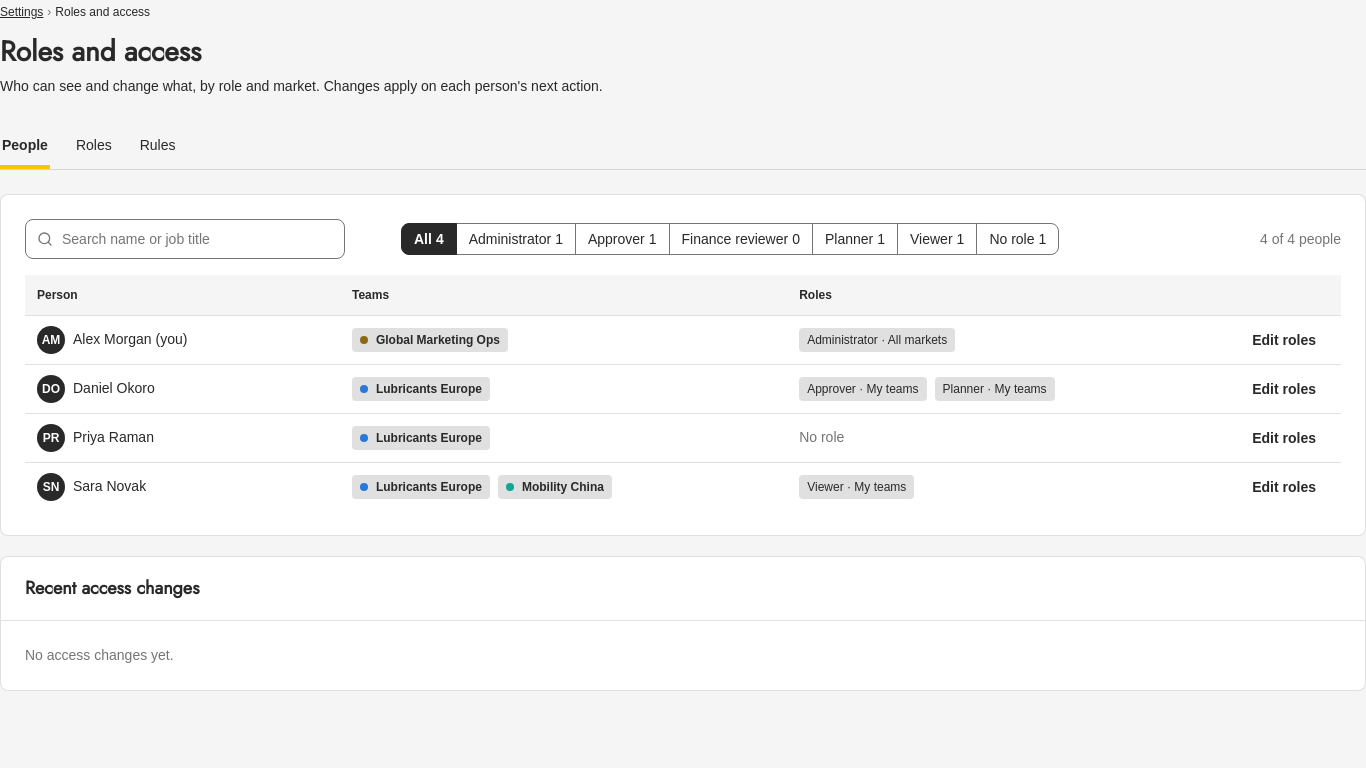
Test: AccessPage: a person's roles (feature 014, US3) › gives Sara the Planner role for Mobility China, with the summary before saving (US3-2)
Click the button with aria-label "Edit roles of Sara Novak" at (1284, 486), box top-left (1239, 470), bottom-right (1329, 502)
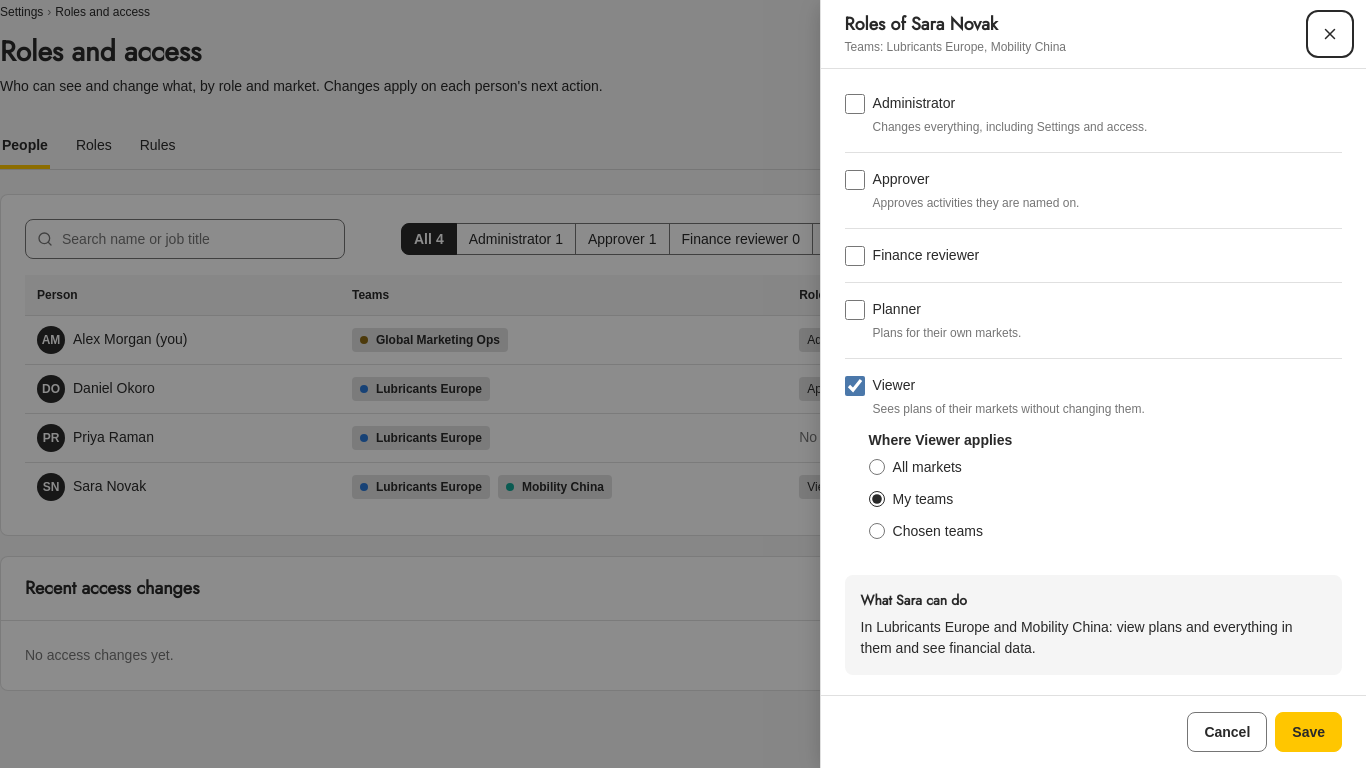
Now the dialog "Roles of Sara Novak" shows "Teams: Lubricants Europe, Mobility China", box top-left (845, 40), bottom-right (1066, 54)
Now the checkbox labelled "Viewer" is checked, box top-left (845, 376), bottom-right (865, 396)
Now the element "What Sara can do" shows "In Lubricants Europe and Mobility China: view plans and everything in them and see financial data.", box top-left (861, 619), bottom-right (1292, 656)
Click the checkbox labelled "Planner" at (855, 310), box top-left (845, 300), bottom-right (865, 320)
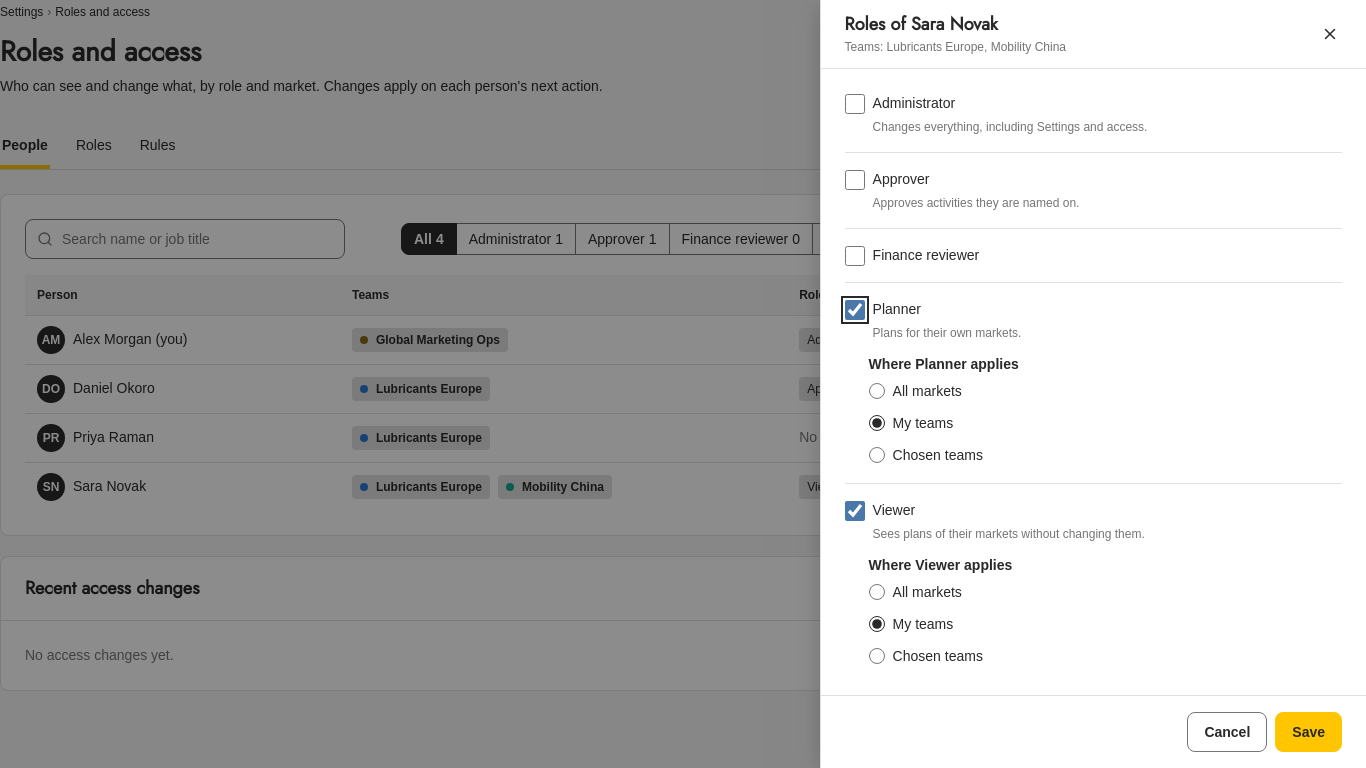
Now the radio button labelled "My teams" below "Where Planner applies" is checked, box top-left (869, 415), bottom-right (885, 431)
Click the radio button labelled "Chosen teams" below "Where Planner applies" at (877, 455), box top-left (869, 447), bottom-right (885, 463)
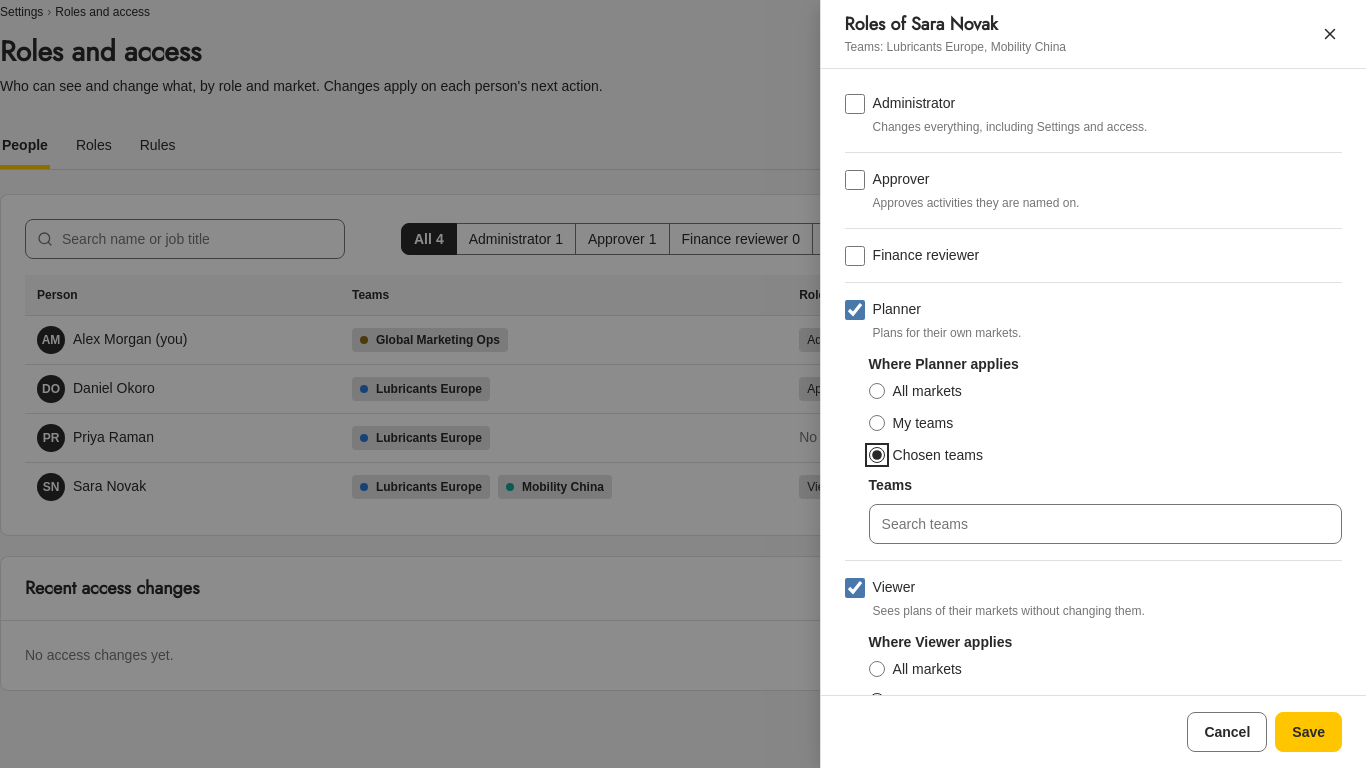
Type "mobility" into the dropdown labelled "Teams" at (1105, 524), box top-left (878, 510), bottom-right (1333, 538)
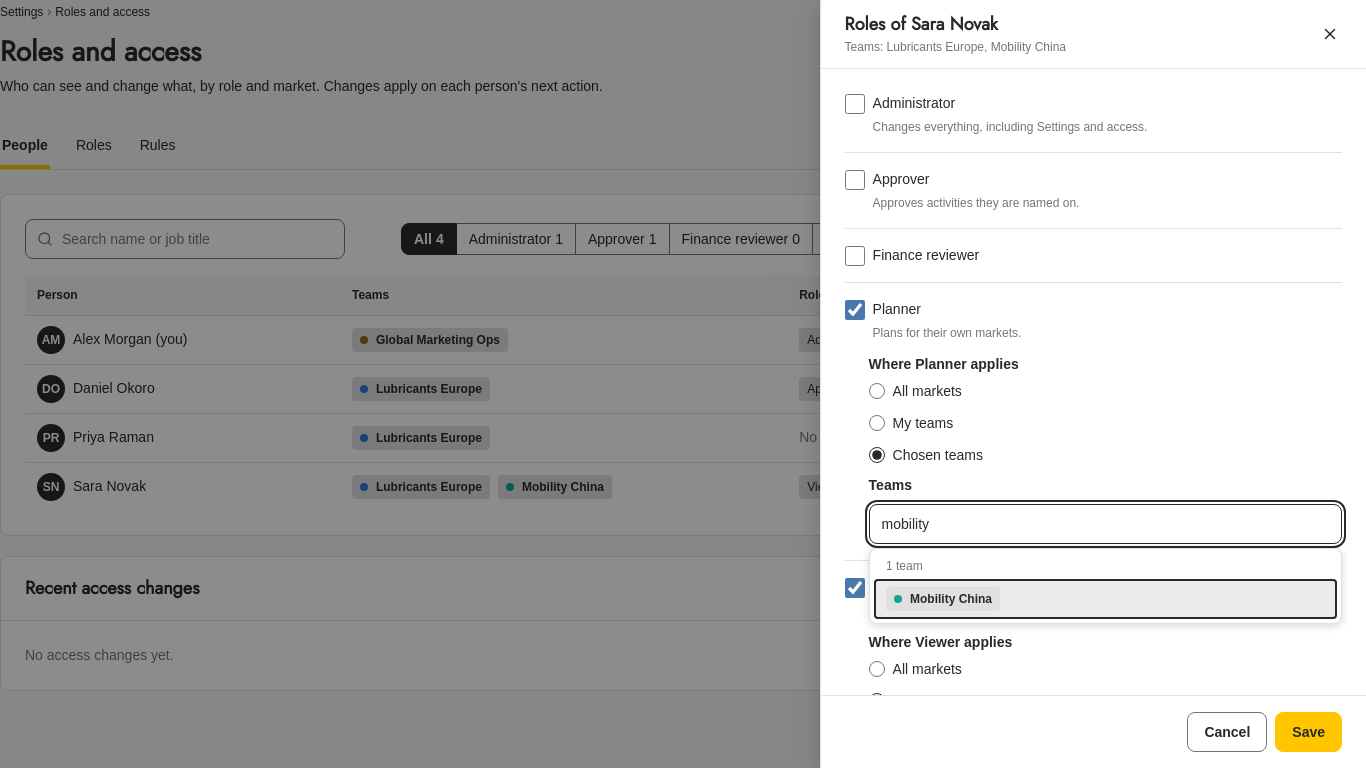
Press Enter
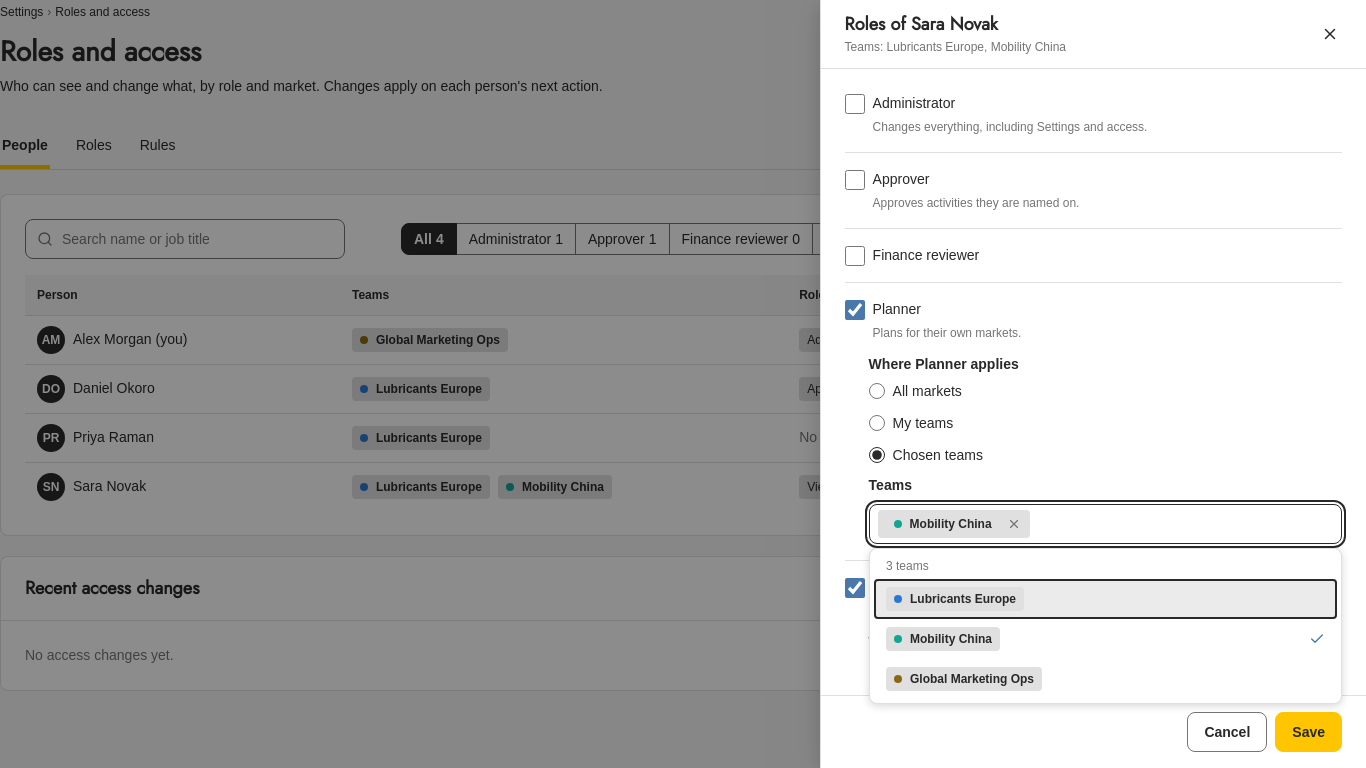
Click the button "Save" at (1309, 732), box top-left (1275, 712), bottom-right (1342, 752)
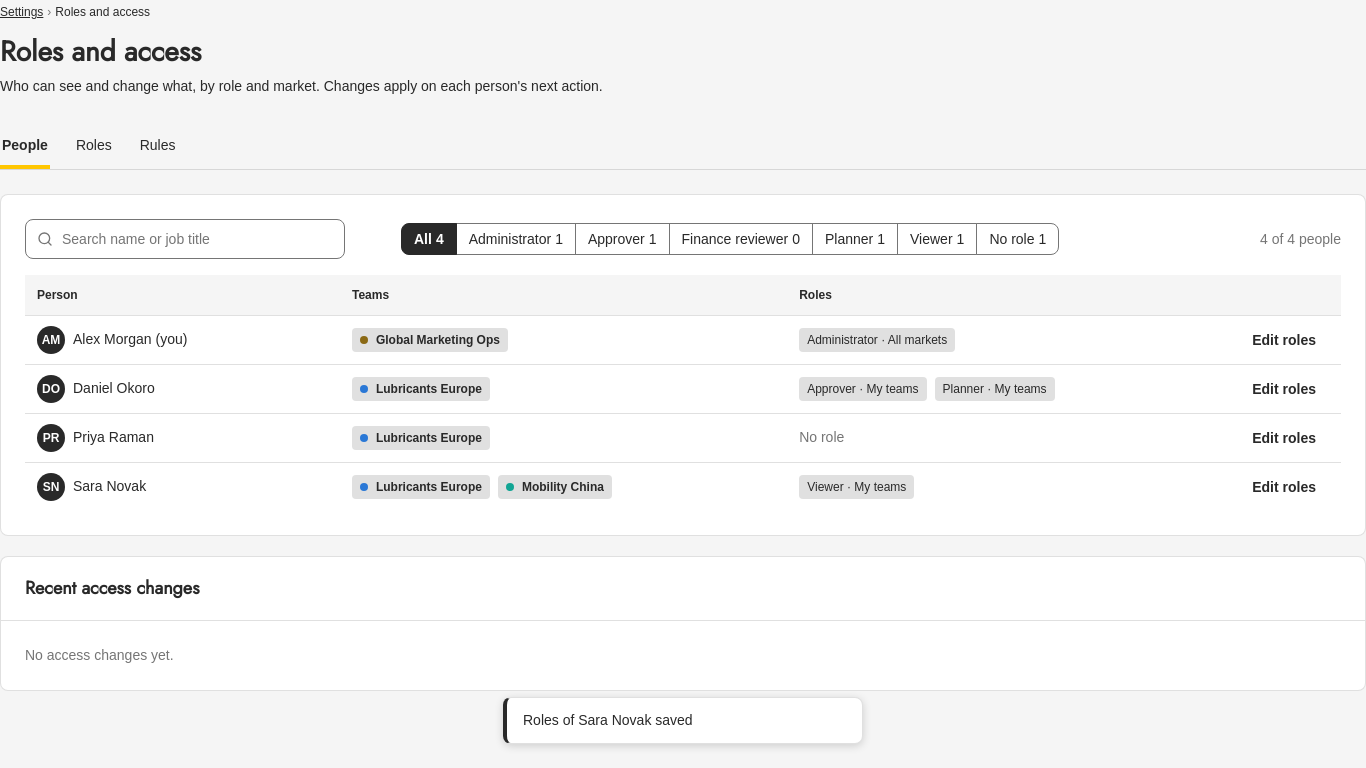
Now the text "Roles of Sara Novak saved" is shown, box top-left (523, 712), bottom-right (693, 728)
Now the dialog is gone
